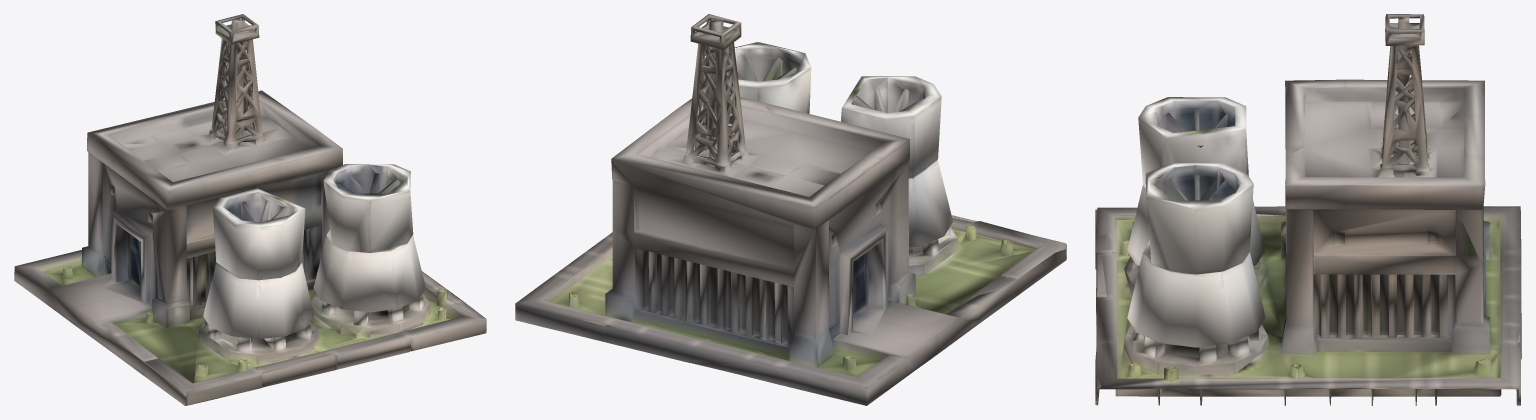
Rendered from santral.glb.
The picture shows the model from 3 angles, left to right: view 1: azimuth 30°, elevation 25°; view 2: azimuth 150°, elevation 25°; view 3: azimuth 270°, elevation 25°; orthographic projection. The views are drawn at different scales.
Parts seen in each view (by area): view 1: node_0; view 2: node_0; view 3: node_0.
Part boxes in pixels (left/top/right/bottom): node_0: left=14, top=14, right=486, bottom=405; node_0: left=515, top=14, right=1066, bottom=405; node_0: left=1095, top=14, right=1521, bottom=405.
Bounding box in the file's own units: 0.744 × 0.5935 × 0.7354.
Materials: 1 (1 with a texture image).
